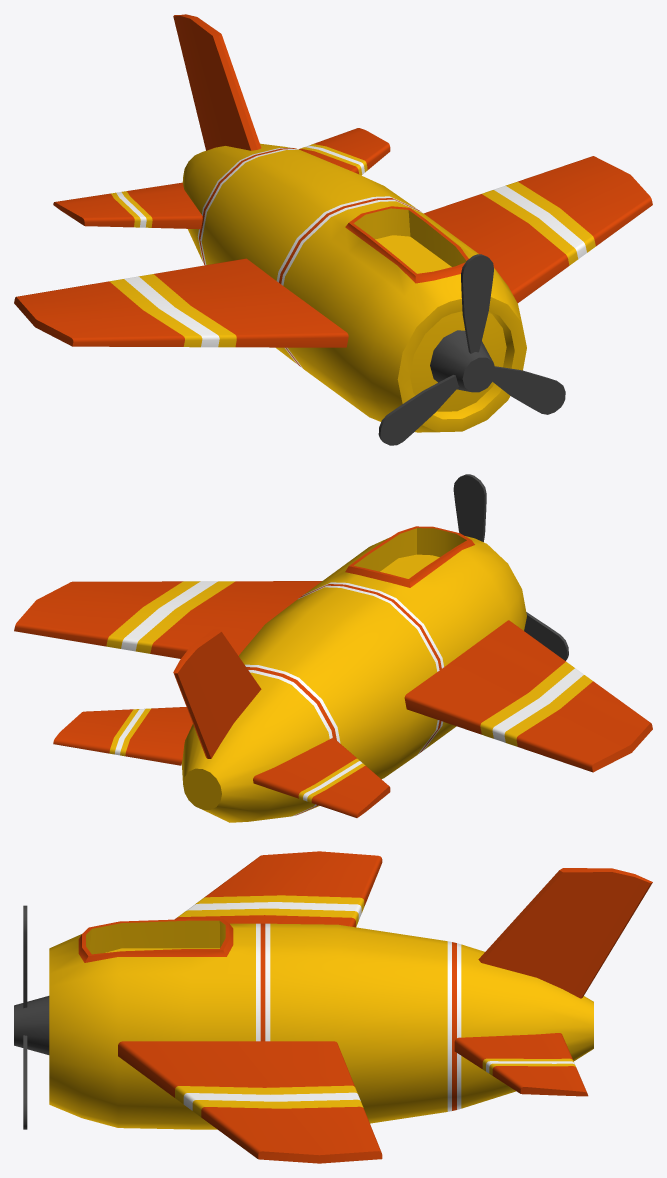
The model's file is Air Plane Z_1.fbx.
3 views of the same model, one above another, from view 1: azimuth 30°, elevation 25°; view 2: azimuth 150°, elevation 25°; view 3: azimuth 270°, elevation 25° (orthographic). The views are drawn at different scales.
Parts seen in each view (by area): view 1: Air Plane Z_1, Air Plane Z_1 Fan; view 2: Air Plane Z_1, Air Plane Z_1 Fan; view 3: Air Plane Z_1, Air Plane Z_1 Fan.
Boxes of the visible parts, x1,y1,x2,y2 form: Air Plane Z_1: (14,14,652,432); Air Plane Z_1 Fan: (378,254,565,445); Air Plane Z_1: (14,526,652,822); Air Plane Z_1 Fan: (453,474,568,660); Air Plane Z_1: (49,851,652,1163); Air Plane Z_1 Fan: (14,905,49,1129).
Size of the model in its own units: 0.6422 by 0.2436 by 0.5681.
